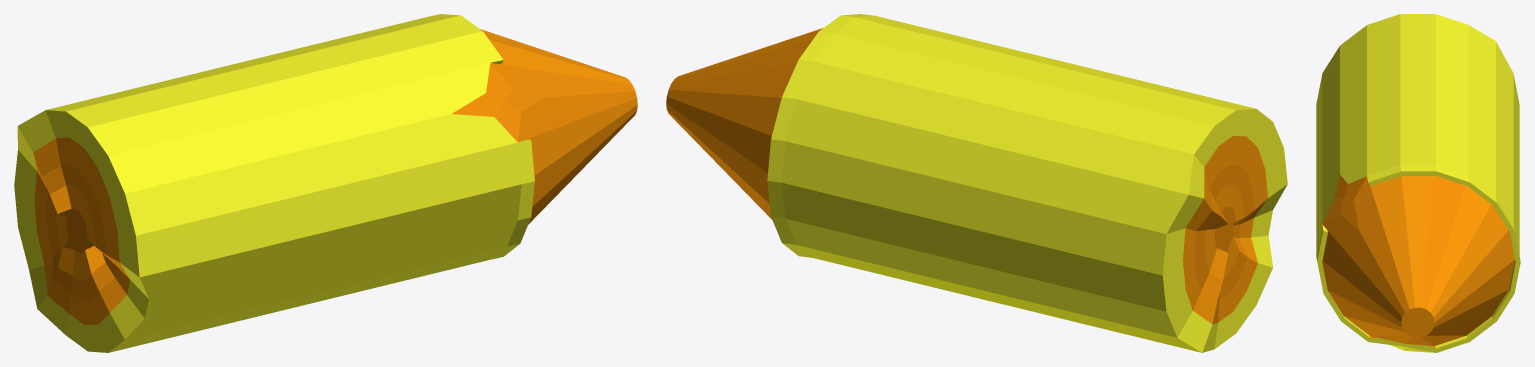
Rendered from Broken log_17.fbx.
3 renders of one model, left to right at view 1: azimuth 30°, elevation 25°; view 2: azimuth 150°, elevation 25°; view 3: azimuth 270°, elevation 25°, orthographic. The views are drawn at different scales.
Visible parts, largest first — view 1: Circle.310; view 2: Circle.310; view 3: Circle.310.
Part boxes in pixels (left/top/right/bottom): Circle.310: left=14, top=14, right=637, bottom=352; Circle.310: left=666, top=14, right=1287, bottom=352; Circle.310: left=1316, top=14, right=1520, bottom=352.
Size of the model in its own units: 66.1 by 25.3 by 25.71.
